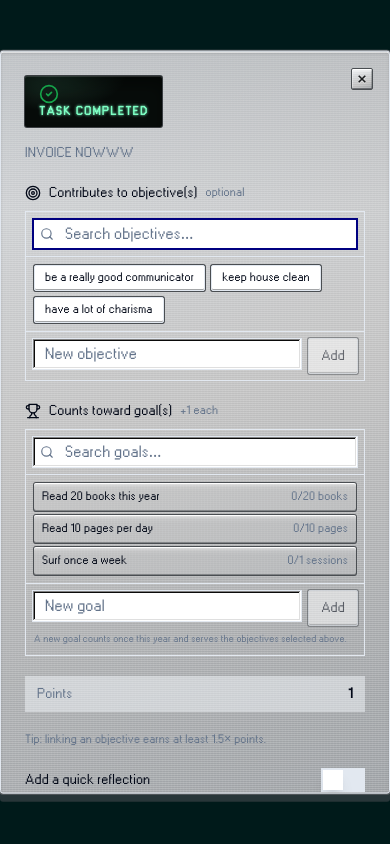
Scenario: CompletionDialog › filters goals as you type in the search field
The image size is (390, 844).
Expected: the text "Read 20 books this year" is shown, [42,489,160,505]
Expected: the text "Surf once a week" is shown, [42,553,127,569]
Type "surf" into the search field labelled "Search goals" at (195, 452), box [32,436,358,468]
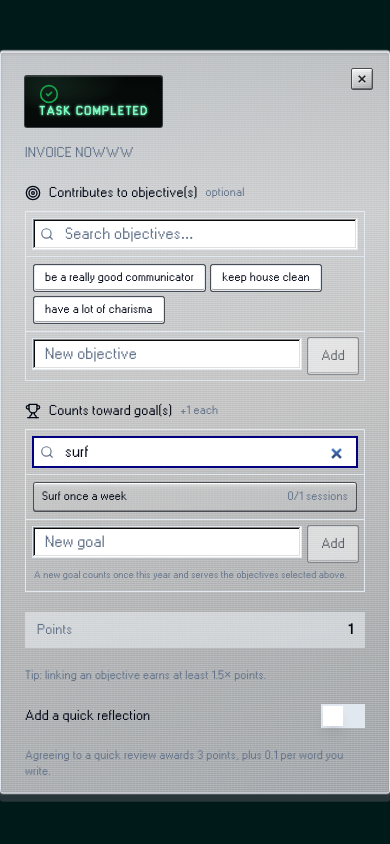
Expected: the text "Surf once a week" is shown, [42,489,127,505]
Expected: the button "Read 20 books this year" is gone
Expected: the button "Read 10 pages per day" is gone
